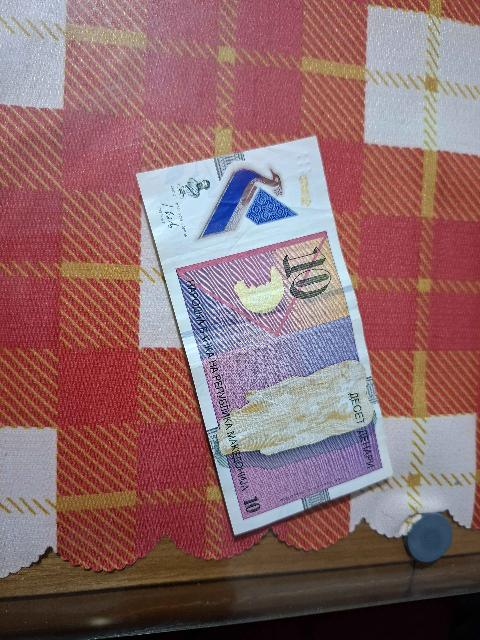10_note: (129, 145, 388, 532)
